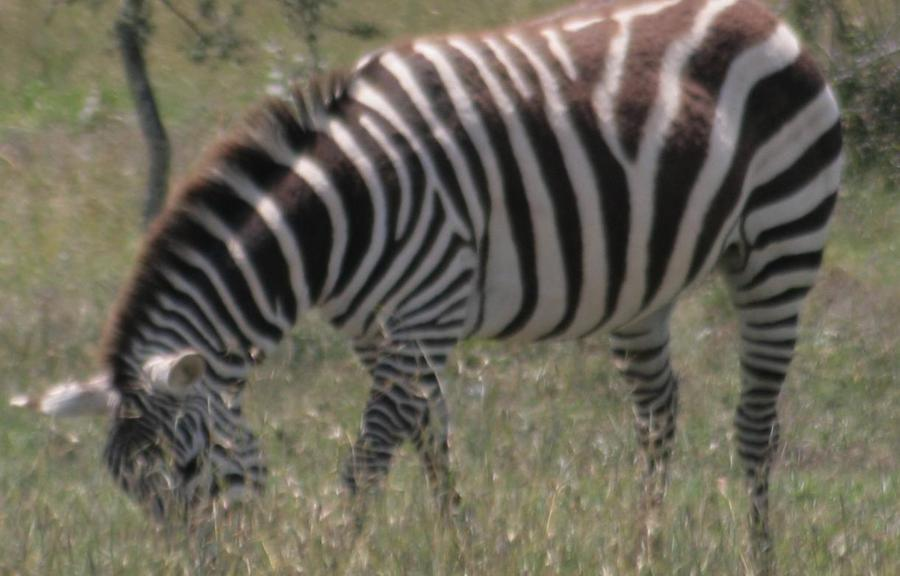zebra_plains: (297, 1, 893, 330)
